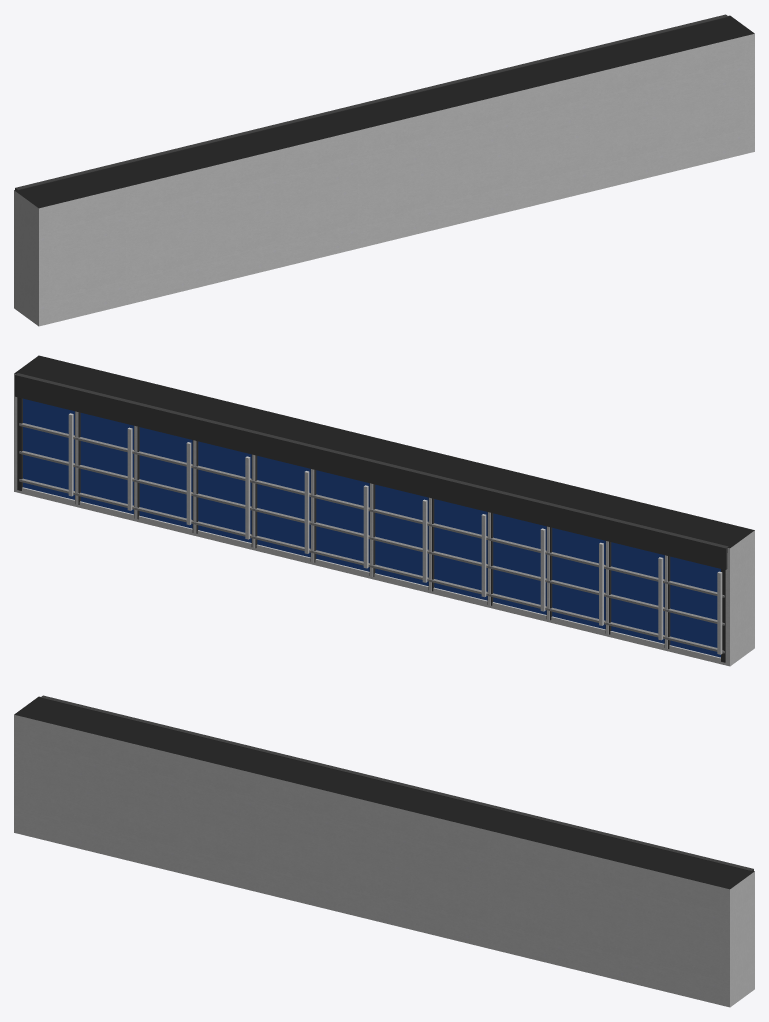
The model's file is huojia8.FBX.
The picture shows the model from 3 angles, top to bottom: view 1: azimuth 30°, elevation 25°; view 2: azimuth 150°, elevation 25°; view 3: azimuth 330°, elevation 25°; orthographic projection.
Visible parts, largest first — view 1: huojia12; view 2: huojia12, boli; view 3: huojia12.
Part boxes in pixels (bbox=[...]): huojia12: bbox=[14, 14, 754, 326]; huojia12: bbox=[14, 355, 754, 666]; boli: bbox=[23, 398, 720, 657]; huojia12: bbox=[14, 695, 754, 1007].
Bounding box in the file's own units: 2191 × 347 × 145.
